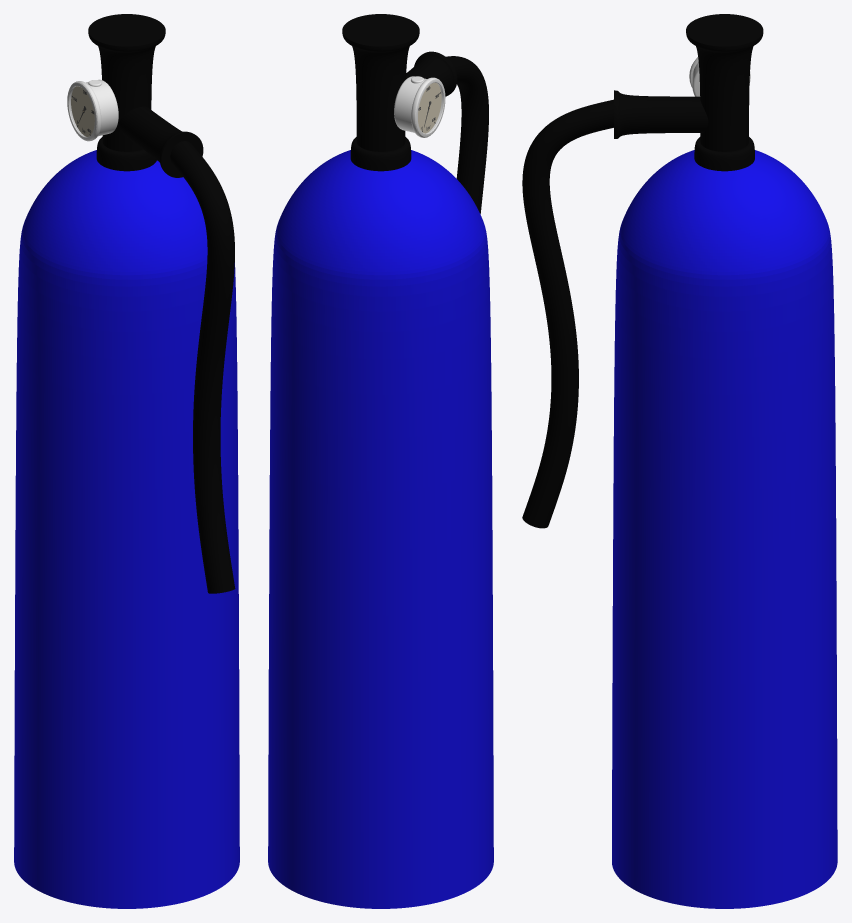
3 views of the same model, side by side, from view 1: azimuth 30°, elevation 25°; view 2: azimuth 150°, elevation 25°; view 3: azimuth 270°, elevation 25° (orthographic).
Parts seen in each view (by area): view 1: Sphere.001, BézierCurve, Sphere, Pressure gauge; view 2: Sphere.001, Sphere, BézierCurve, Pressure gauge; view 3: Sphere.001, BézierCurve, Sphere.
Boxes of the visible parts, x1,y1,x2,y2 form: Sphere.001: [14, 150, 239, 908]; BézierCurve: [170, 141, 235, 593]; Sphere: [88, 14, 203, 177]; Pressure gauge: [67, 79, 118, 141]; Sphere.001: [268, 150, 493, 908]; Sphere: [342, 14, 457, 171]; BézierCurve: [446, 56, 488, 213]; Pressure gauge: [394, 76, 445, 137]; Sphere.001: [612, 150, 837, 908]; BézierCurve: [522, 99, 613, 528]; Sphere: [614, 14, 763, 171].
Bounding box in the file's own units: 14.45 × 58.69 × 20.18.
